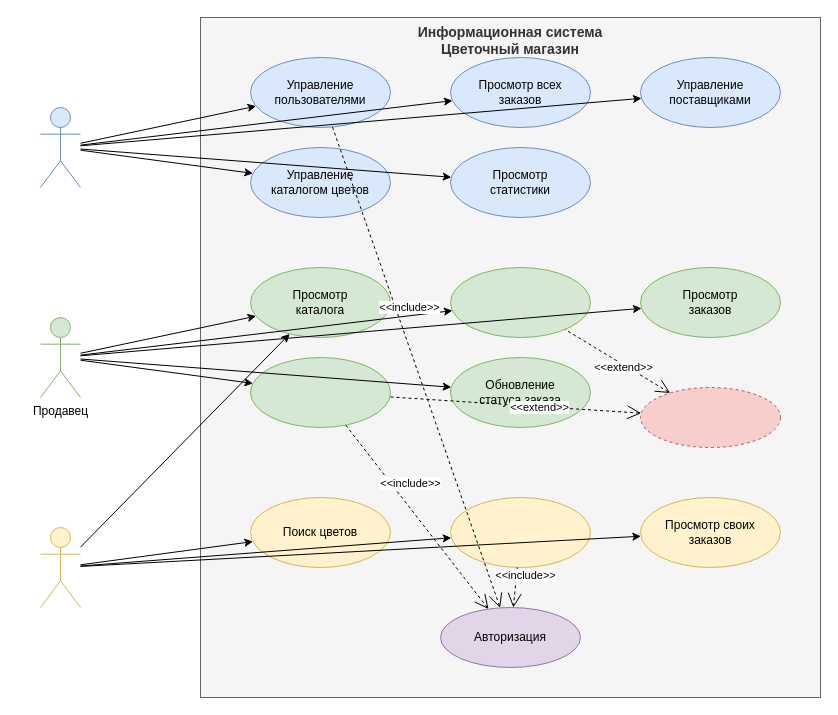
Image size: 838x715. Some labels were removed from this diagram. The shapes that lost their labels are listed below. From the top down, each one's centre as x and y in pixels, then its label:
the point at 60,147: Администратор
the point at 520,302: Управление клиентами
the point at 320,392: Создание заказа
the point at 710,417: Валидация данных
the point at 520,532: Оформление заказа
the point at 60,567: Клиент
